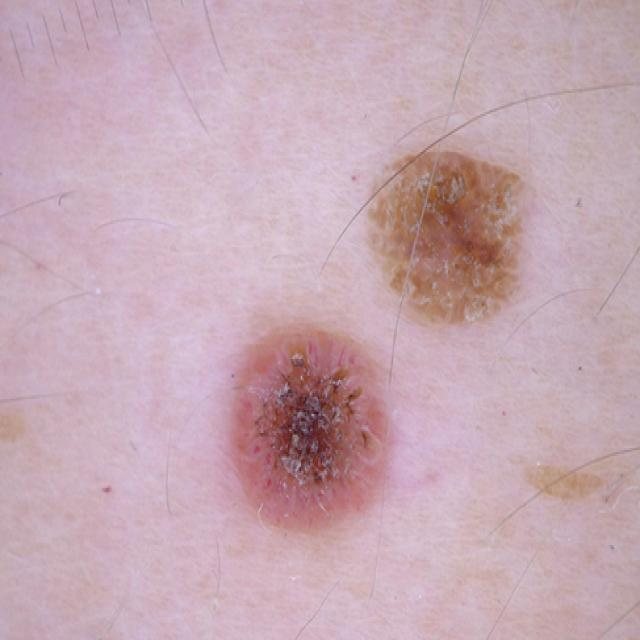Keratosis: (350, 102, 592, 305), (225, 315, 426, 534)
